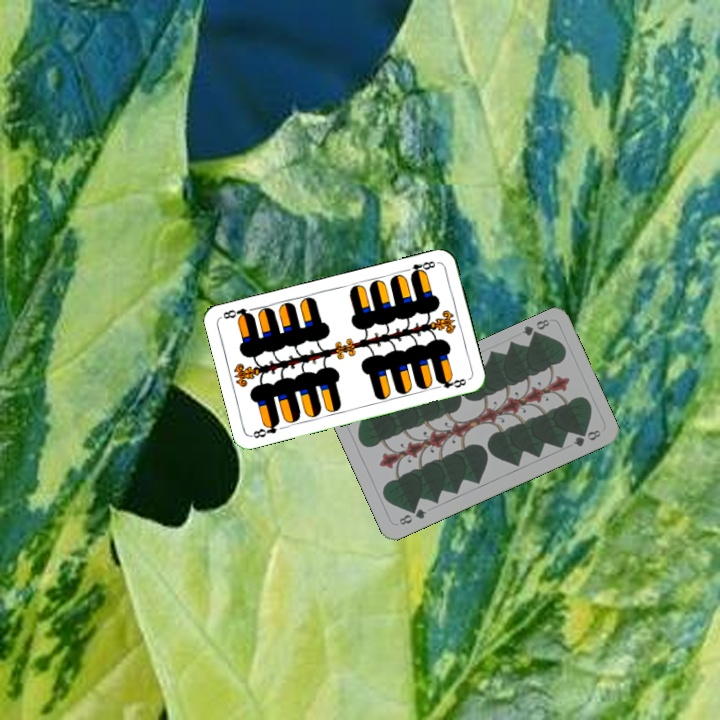E8: (400, 257, 440, 279), (248, 417, 282, 441)
G8: (518, 315, 552, 342), (395, 504, 429, 528)
